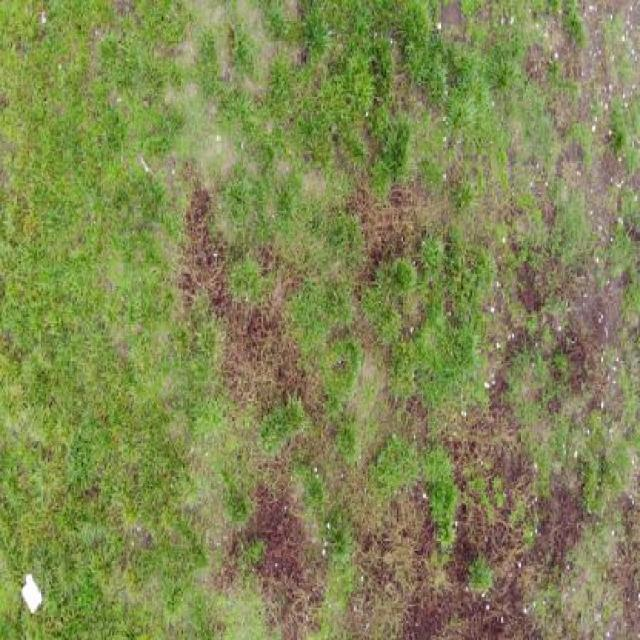Garbage: (21, 571, 44, 615)
